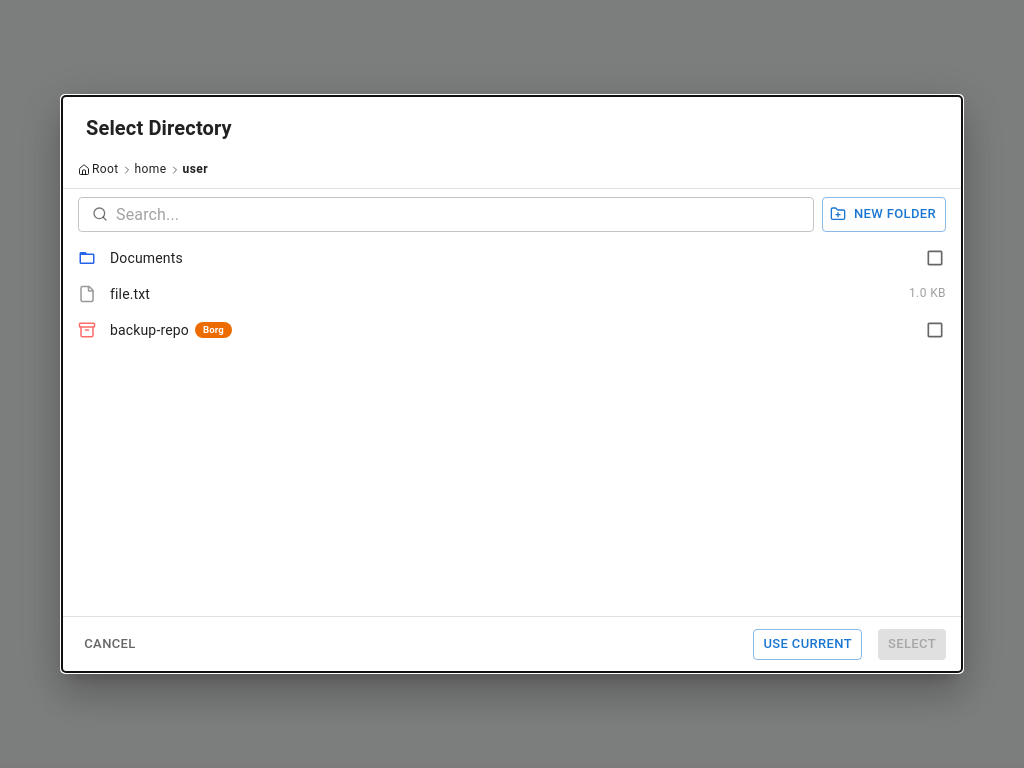
Test: FileExplorerDialog › Multi-Selection Mode › deselects item when clicked again
This screenshot has width=1024, height=768.
Check: the text "Documents" is shown, box [110, 248, 183, 268]
Click the 1st checkbox. click: (935, 258)
box: [925, 248, 945, 268]
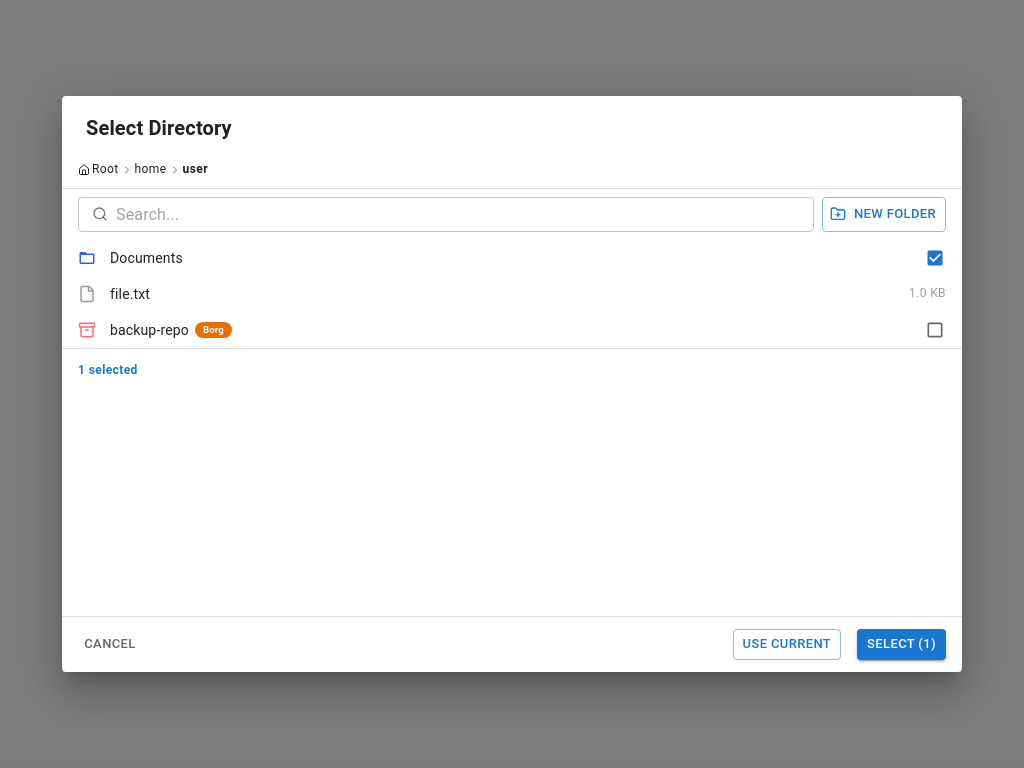
Check: the text "1 selected" is shown, box [78, 363, 138, 377]
Click the 1st checkbox. click: (935, 258)
box: [925, 248, 945, 268]
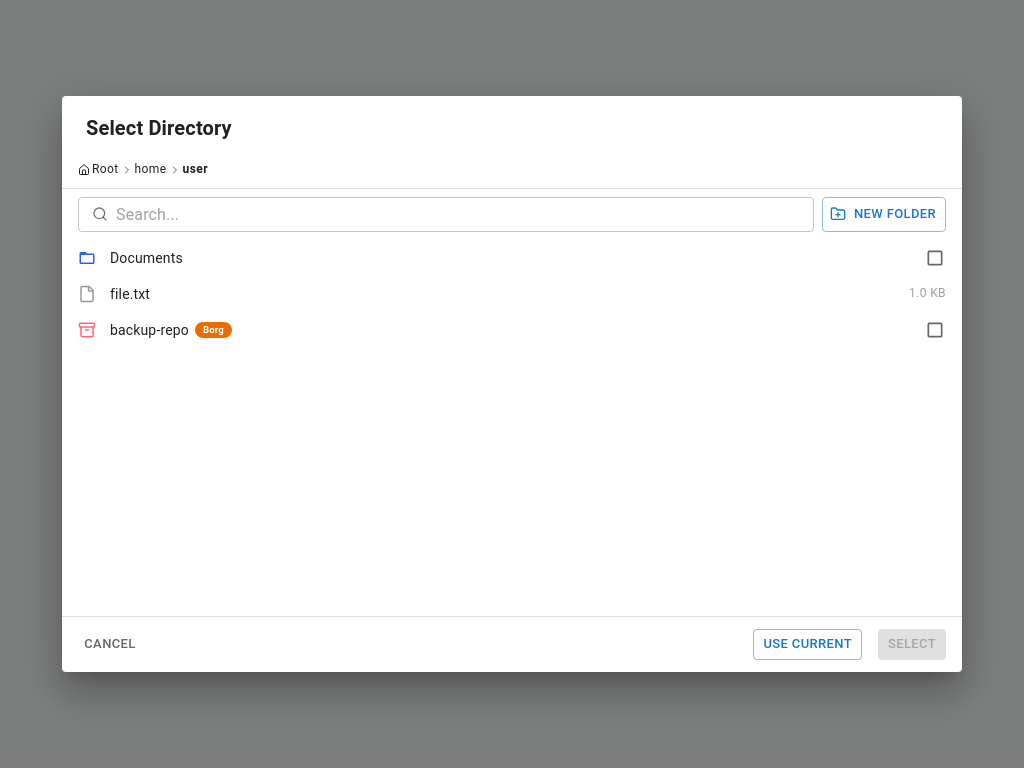
Check: the text "1 selected" is gone
